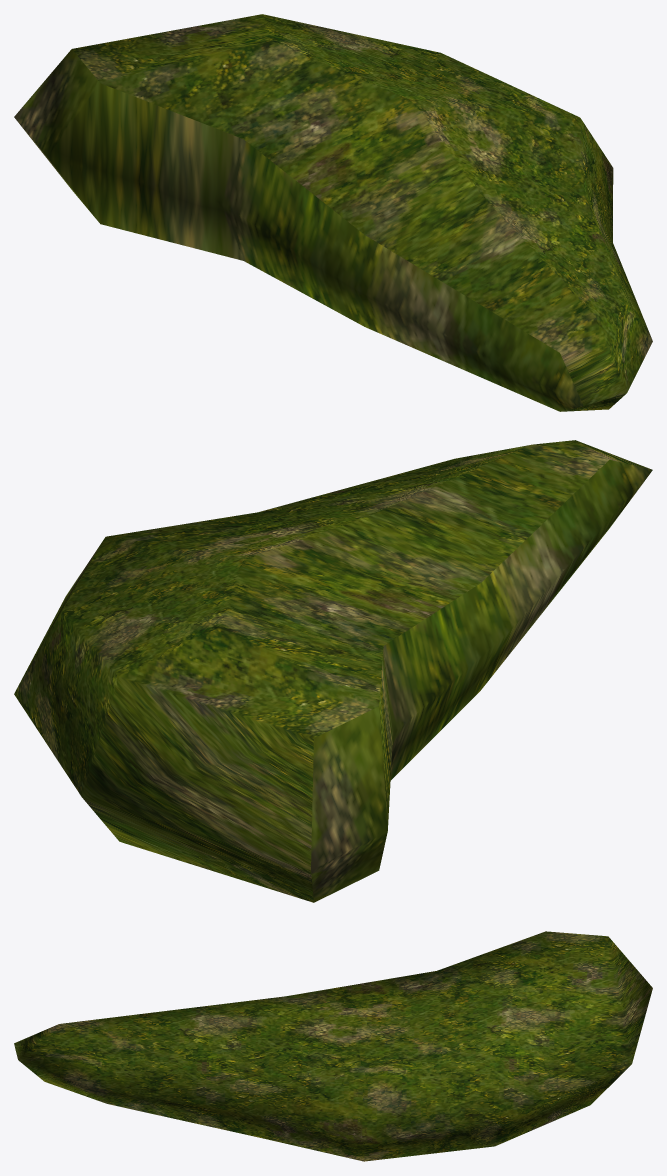
File: OVERHILL_A_01_LINE64.fbx
3 views of the same model, one above another, from view 1: azimuth 30°, elevation 25°; view 2: azimuth 150°, elevation 25°; view 3: azimuth 270°, elevation 25° (orthographic). The views are drawn at different scales.
Parts seen in each view (by area): view 1: OVERHILL_A_01_LINE64; view 2: OVERHILL_A_01_LINE64; view 3: OVERHILL_A_01_LINE64.
Part boxes in pixels (left/top/right/bottom): OVERHILL_A_01_LINE64: left=14, top=14, right=652, bottom=411; OVERHILL_A_01_LINE64: left=14, top=440, right=652, bottom=902; OVERHILL_A_01_LINE64: left=14, top=931, right=652, bottom=1161.
Size of the model in its own units: 34946 by 12546 by 62064.
1 material, 1 textured.
